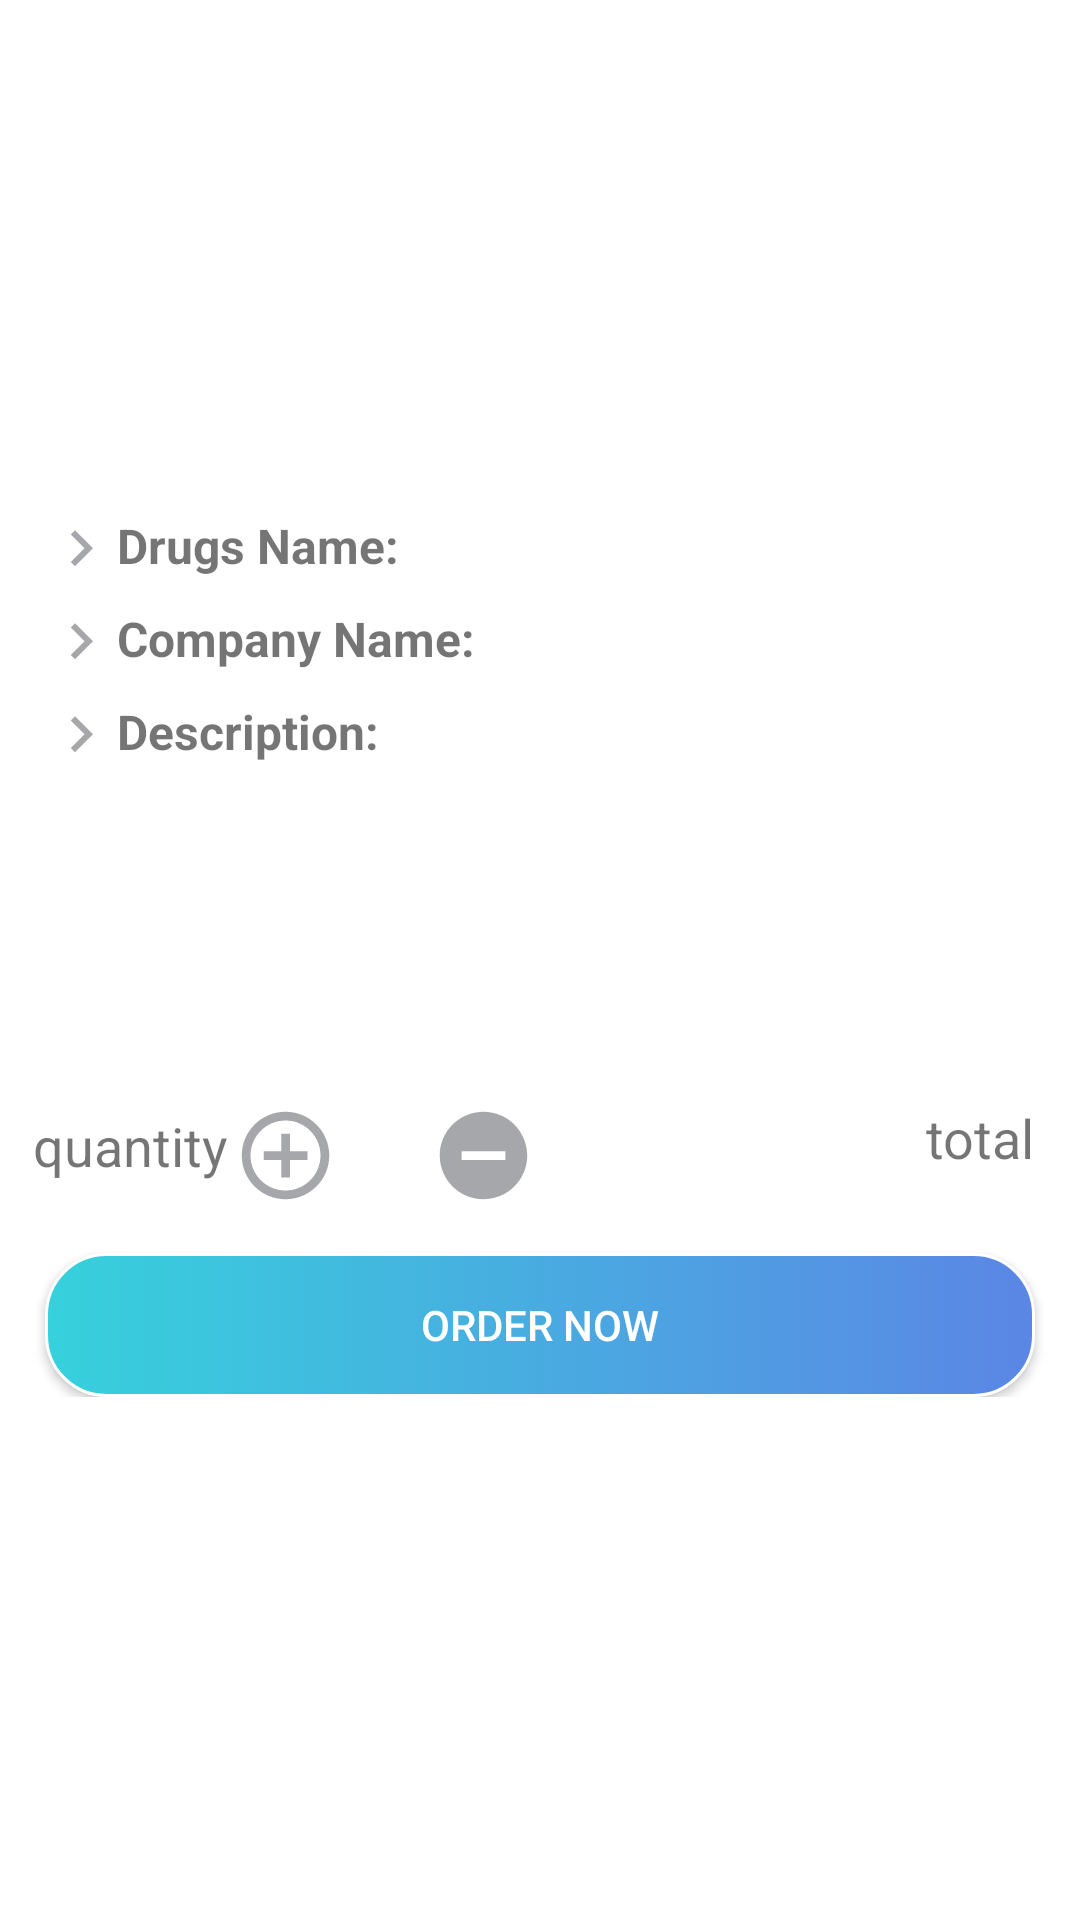

Screen size 1080px×1920px. Icon name, then its box in pixels as BBox(x1, y1, x2, y2):
decrement: BBox(440, 1112, 527, 1199)
incremant: BBox(242, 1112, 329, 1199)
